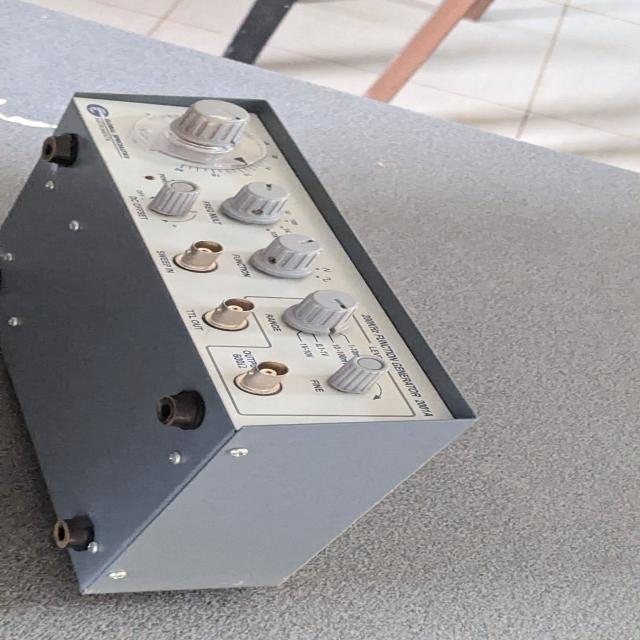A 200KHZ Function Generator: (18, 84, 489, 586)
